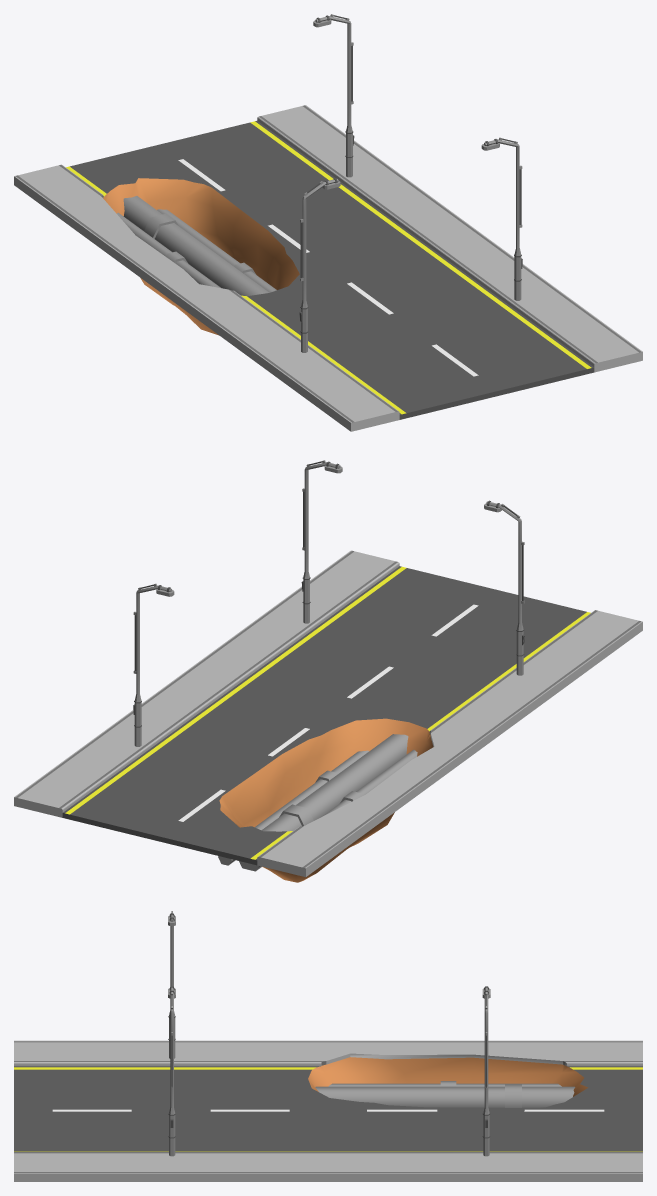
The model's file is SM_Road_StraightConstruct_01.FBX.
The picture shows the model from 3 angles, top to bottom: view 1: azimuth 30°, elevation 25°; view 2: azimuth 150°, elevation 25°; view 3: azimuth 270°, elevation 25°; orthographic projection. The views are drawn at different scales.
Parts seen in each view (by area): view 1: SM_Road_Straight_Construct_01; view 2: SM_Road_Straight_Construct_01; view 3: SM_Road_Straight_Construct_01.
Boxes of the visible parts, x1,y1,x2,y2 form: SM_Road_Straight_Construct_01: (14,14,642,431); SM_Road_Straight_Construct_01: (14,460,642,882); SM_Road_Straight_Construct_01: (14,911,642,1181).
Bounding box in the file's own units: 6 × 5.01 × 12.
1 material, 1 textured.
